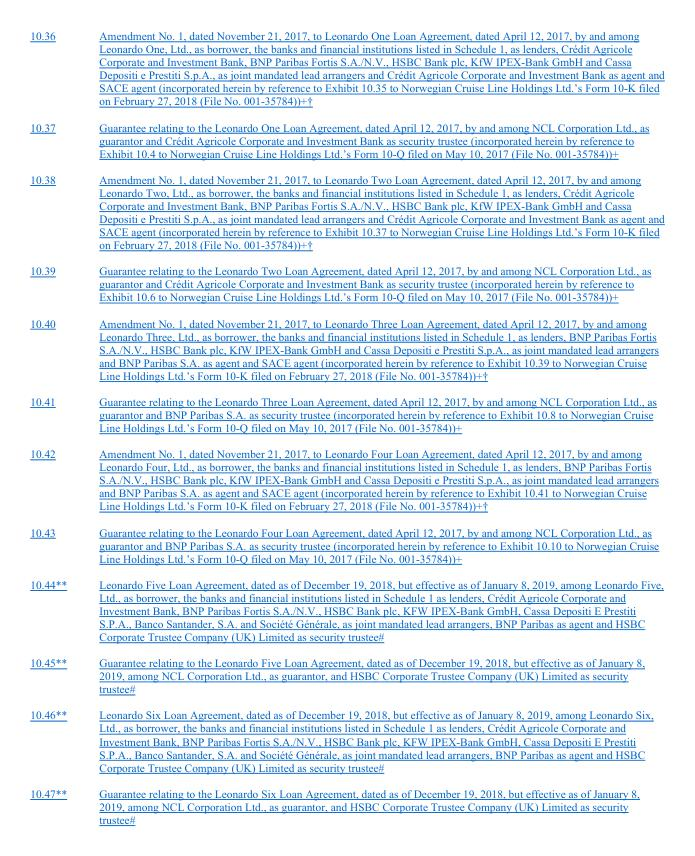table: (29, 28, 663, 825)
table column: (82, 28, 663, 825), (29, 28, 82, 825)
table row: (29, 165, 663, 257), (29, 28, 663, 113), (29, 570, 663, 649), (29, 309, 663, 387), (29, 440, 663, 518), (29, 701, 663, 779), (29, 387, 663, 440), (29, 113, 663, 165), (29, 257, 663, 309), (29, 518, 663, 570), (29, 649, 663, 701), (29, 779, 663, 825)
